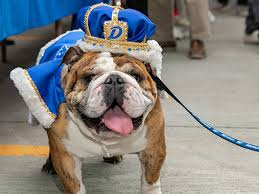Bulldog: (33, 46, 185, 193)
